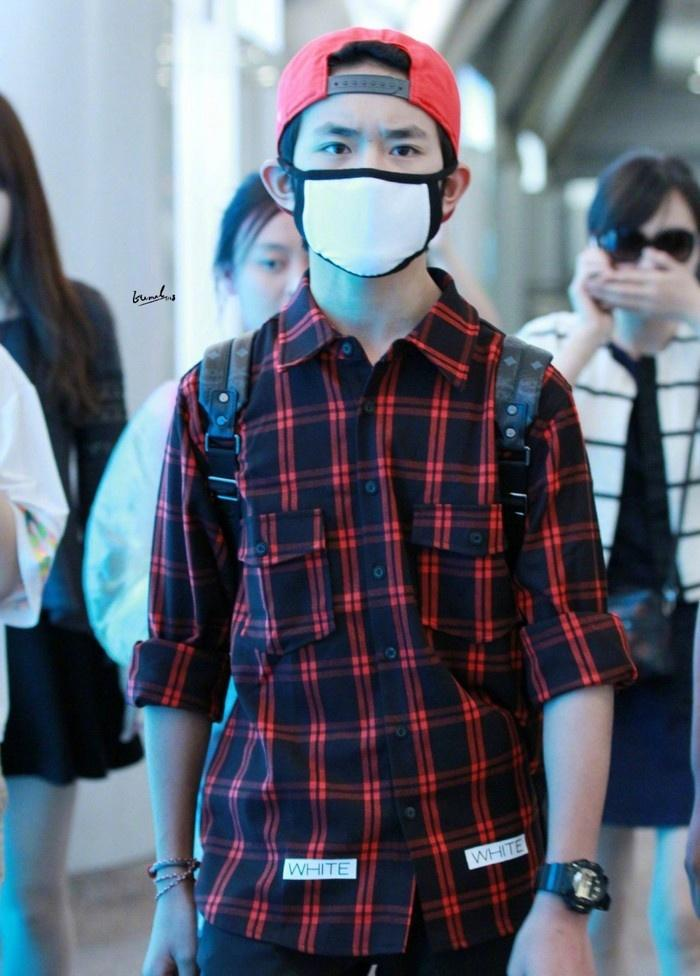NONE: (242, 232, 350, 336), (601, 226, 700, 319)
OK: (281, 112, 438, 269)
